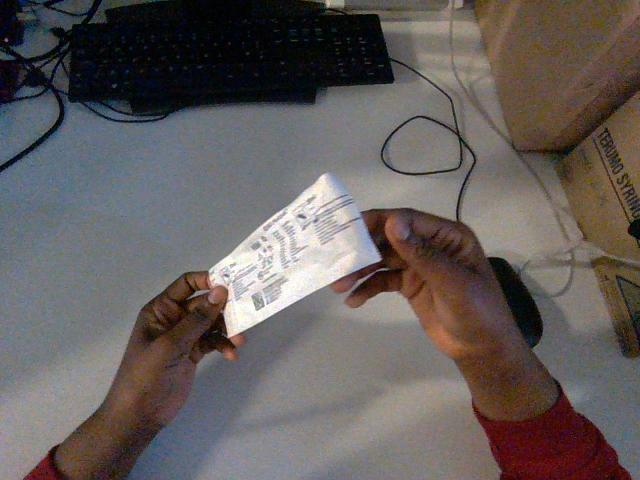syringe: (209, 173, 380, 335)
